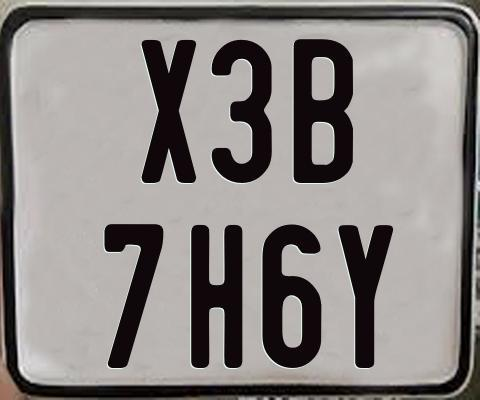3: (211, 39, 275, 185)
6: (260, 221, 325, 371)
7: (102, 221, 165, 365)
B: (293, 36, 353, 182)
H: (190, 224, 242, 372)
X: (140, 39, 195, 184)
Y: (336, 222, 392, 371)
